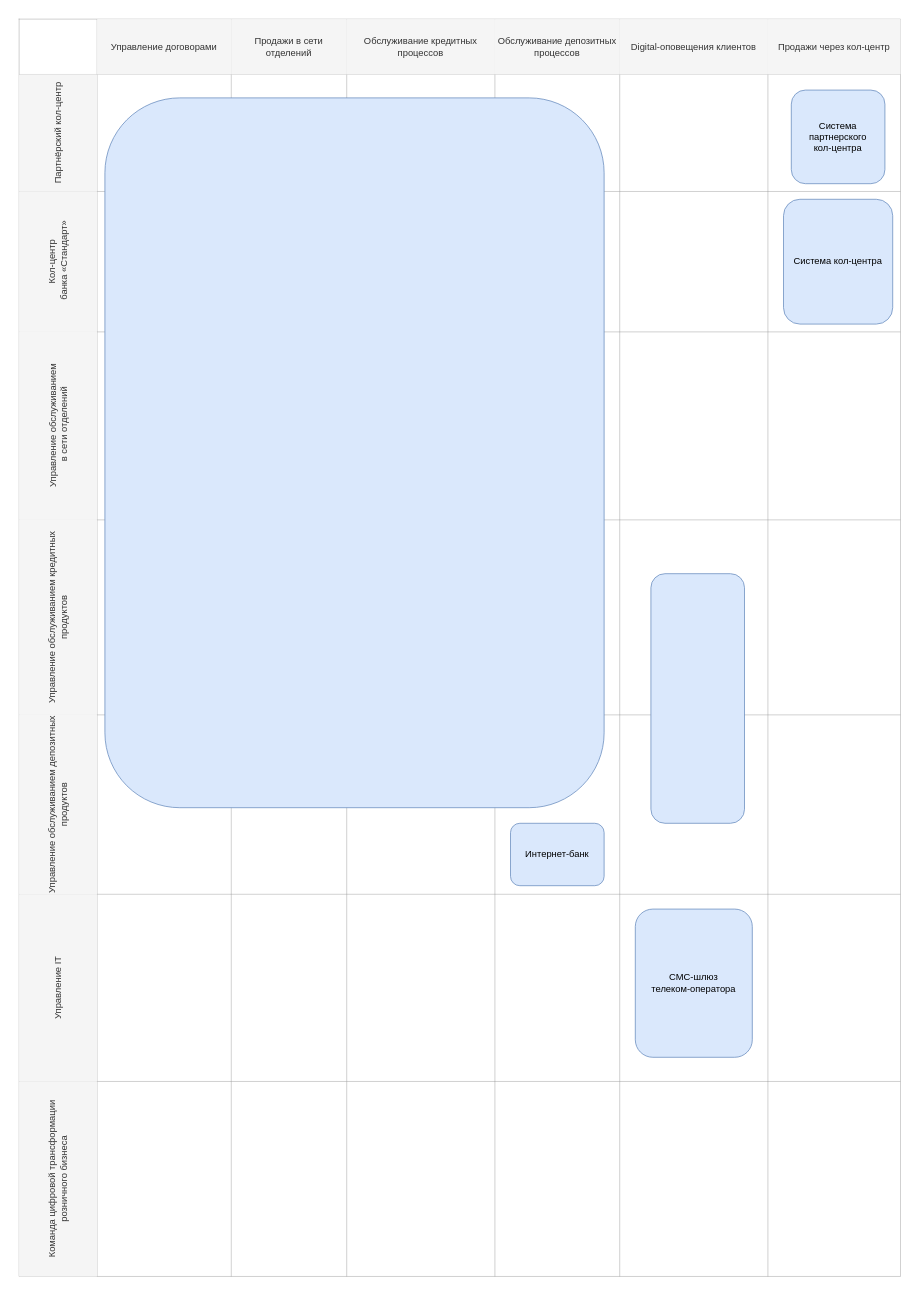
Image size: 920x1290. Some labels were removed from this diagram. The shapes that lost their labels are listed below. From the top down, each one's centre as x and y in pixels, then its label:
At pixel 354 452: "Автоматизированная банковская система (АБС)".
At pixel 697 698: "Сайт".
